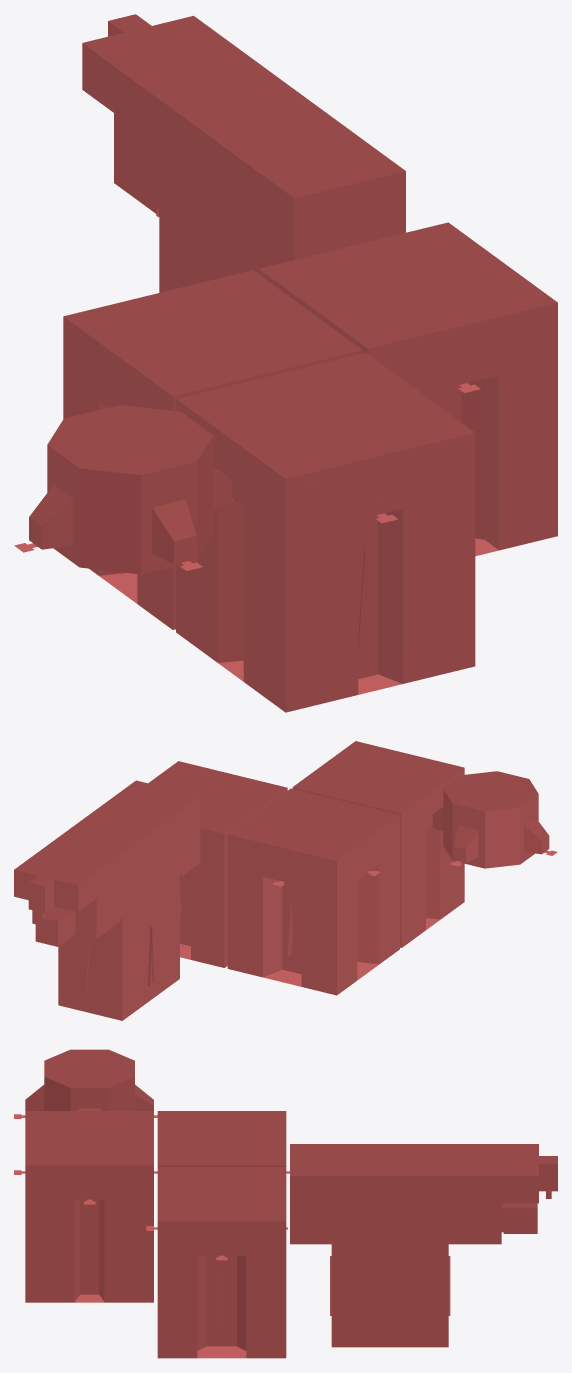
File: ex_l_map.glb
3 views of the same model, one above another, from view 1: azimuth 30°, elevation 25°; view 2: azimuth 150°, elevation 25°; view 3: azimuth 270°, elevation 25° (orthographic). The views are drawn at different scales.
Visible parts, largest first — view 1: ex_l_map_col; view 2: ex_l_map_col; view 3: ex_l_map_col.
Part boxes in pixels (box(x1,y1,x2,y2)): ex_l_map_col: box(14, 14, 557, 712); ex_l_map_col: box(14, 741, 557, 1020); ex_l_map_col: box(14, 1049, 557, 1358).
Size of the model in its own units: 11 by 5.01 by 14.39.
